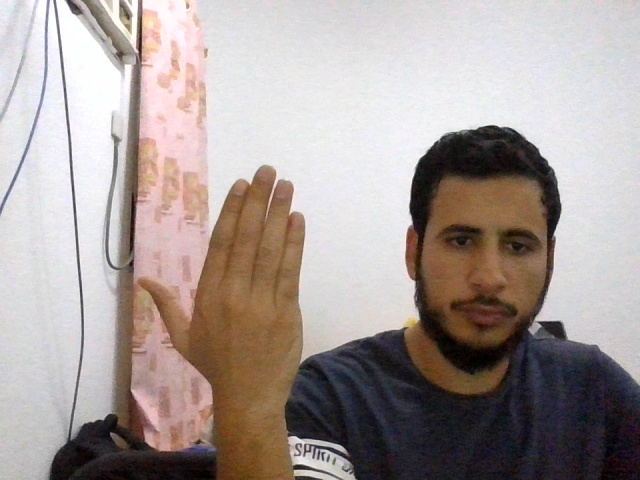Five: (136, 165, 305, 398)
